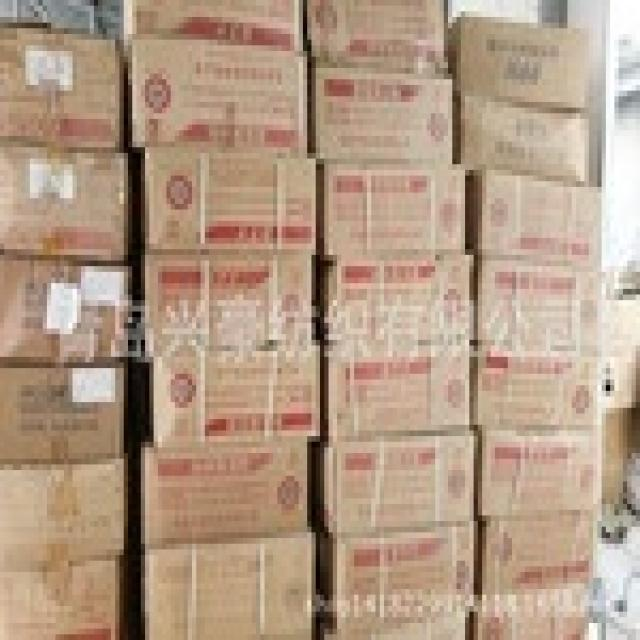box: (126, 38, 307, 156), (135, 248, 312, 365), (136, 343, 320, 446), (138, 442, 311, 547), (133, 154, 315, 253), (141, 535, 314, 634), (315, 522, 474, 623), (313, 434, 474, 533), (316, 343, 469, 441), (0, 141, 127, 259), (1, 27, 125, 147), (1, 253, 130, 363), (1, 458, 126, 571), (315, 164, 465, 258), (318, 256, 470, 347), (455, 83, 588, 185), (450, 17, 585, 114), (310, 70, 453, 161), (467, 171, 597, 268), (470, 255, 600, 351), (0, 366, 127, 462), (475, 430, 602, 514), (470, 347, 601, 426), (308, 1, 446, 74), (0, 558, 124, 634), (476, 514, 591, 593), (125, 1, 303, 51), (469, 581, 591, 634), (316, 615, 467, 634)
